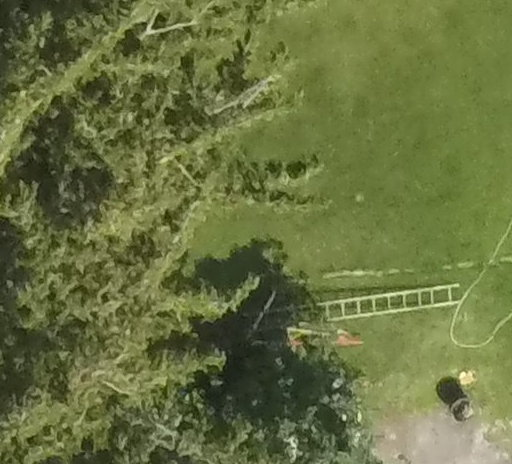container: (449, 393, 477, 423)
